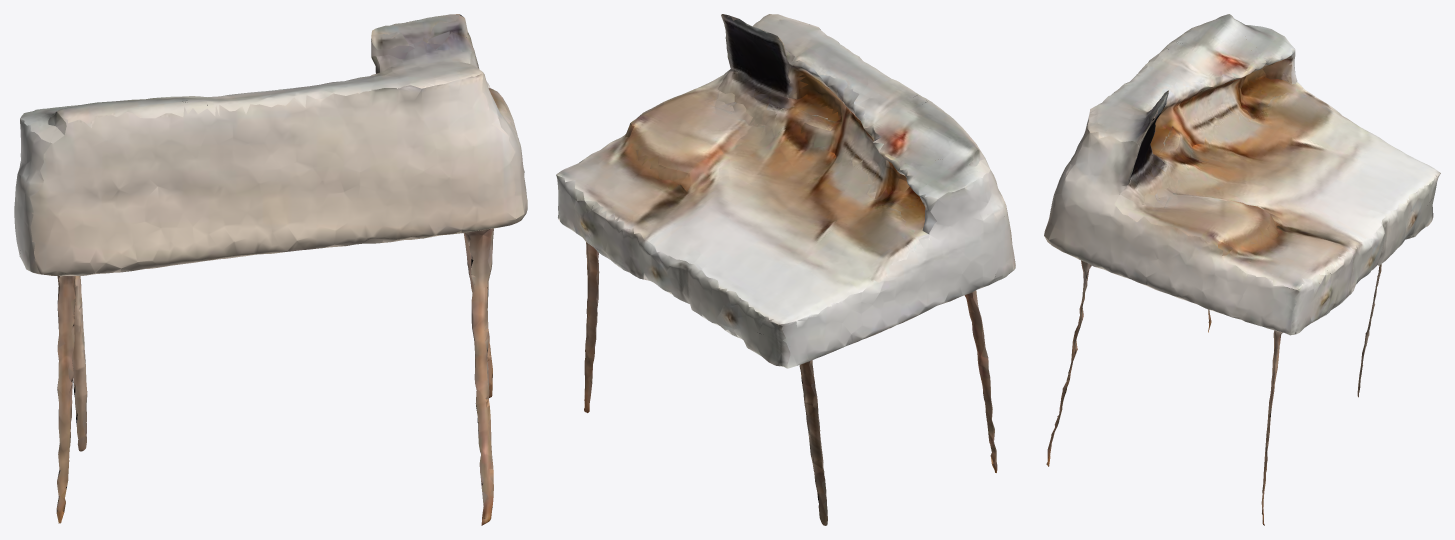
The model's file is 12_50_28_20_writing-desk.glb.
The picture shows the model from 3 angles, left to right: view 1: azimuth 30°, elevation 25°; view 2: azimuth 150°, elevation 25°; view 3: azimuth 270°, elevation 25°; orthographic projection. The views are drawn at different scales.
Visible parts, largest first — view 1: world; view 2: world; view 3: world.
Part boxes in pixels (x1,y1,x2,y2): world: (14, 14, 527, 525); world: (556, 14, 1015, 525); world: (1044, 14, 1440, 525).
Bounding box in the file's own units: 0.8985 × 0.7964 × 0.7567.
Materials: 1 (1 with a texture image).
